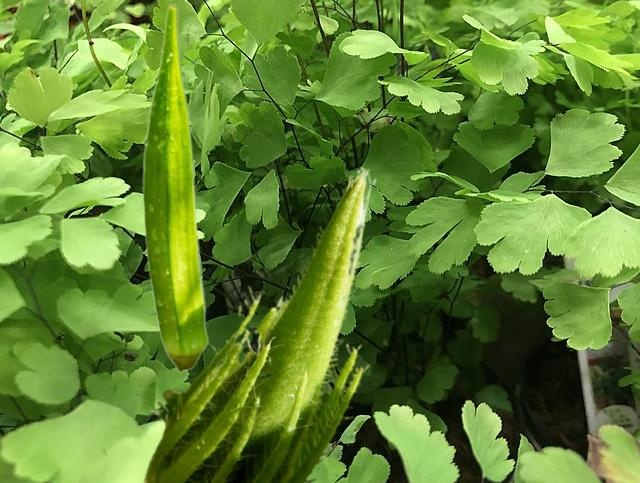okra: (140, 165, 376, 481), (142, 3, 208, 372)
